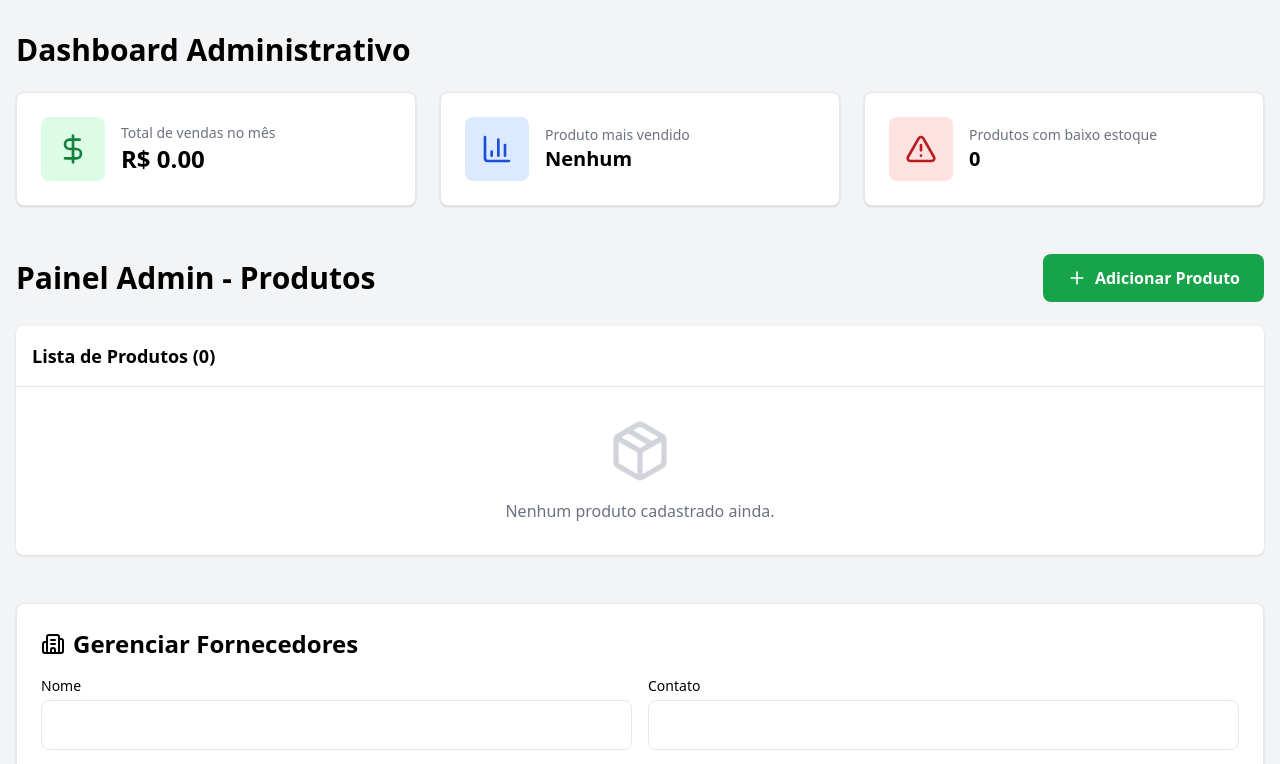
Test: AdminPage - Testes completos › Ao clicar em adicionar produto, abre o formulário
Click the button "Adicionar Produto" at (1154, 278), box [1043, 254, 1264, 302]
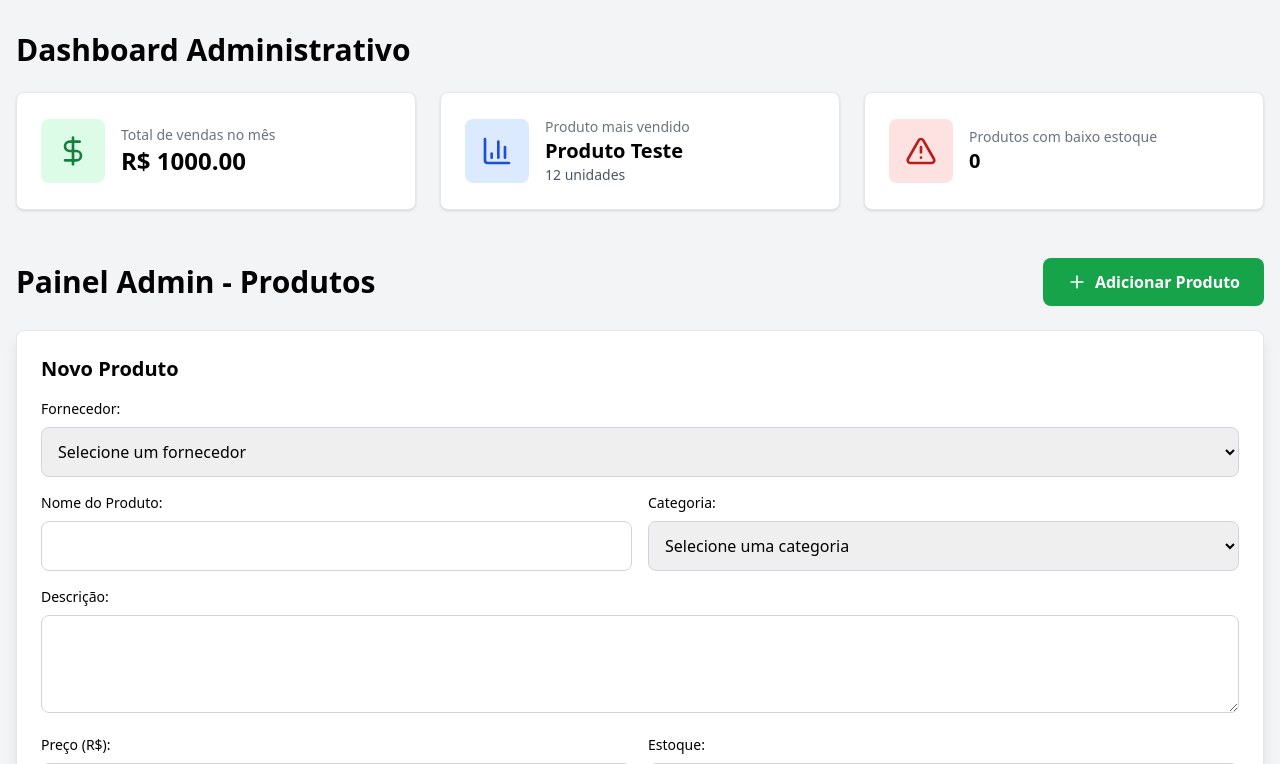
Now the heading "Novo Produto" is shown, box [41, 355, 179, 382]
